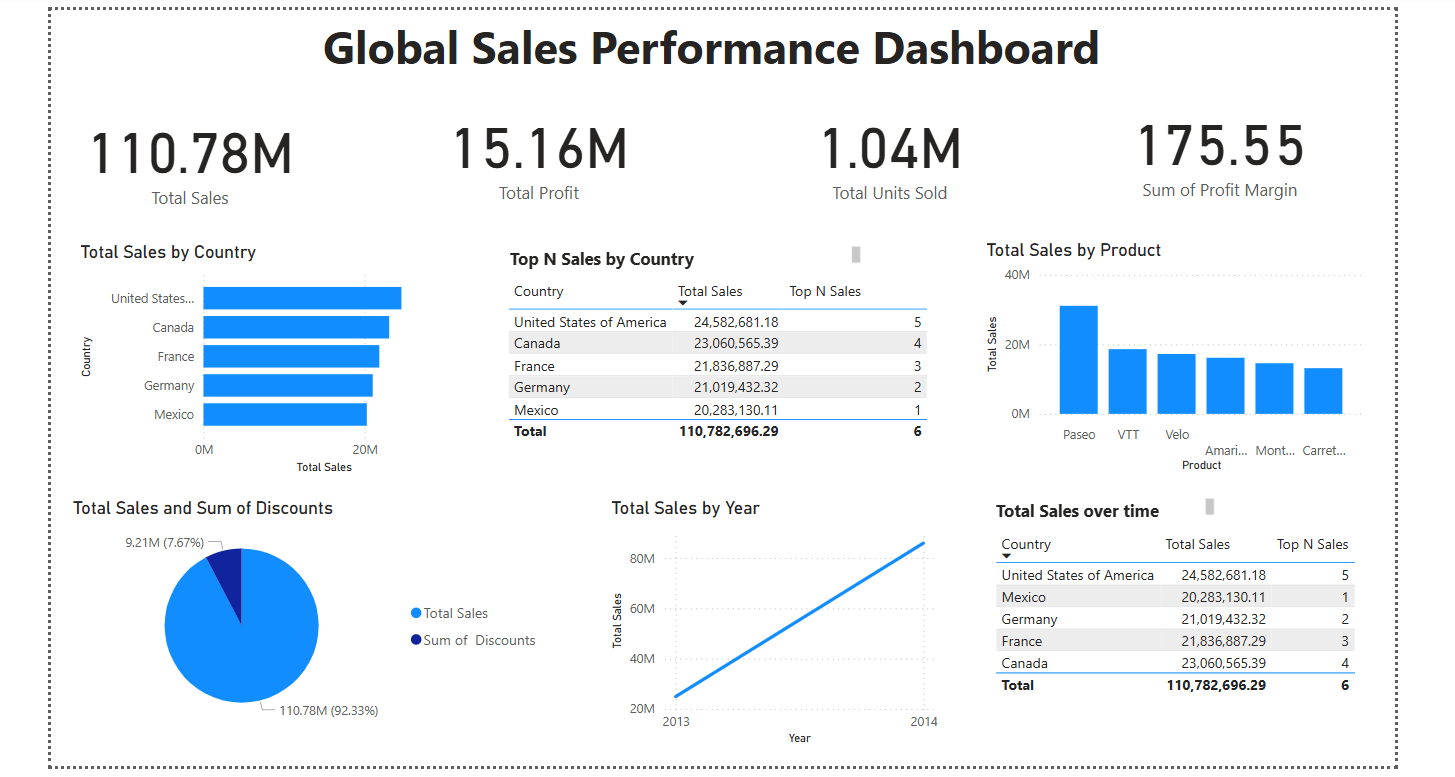

Layout of this report page (visuals, bound fields, positions):
{"tool":"powerbi","page":{"name":"Dashboard","canvas":[1280,720],"ordinal":0},"visuals":[{"type":"textbox","box":[240.8,0,775.3,69.7],"z":0},{"type":"card","fields":{"Values":["Financials.Total Sales"]},"box":[22.7,74.2,218,130.2],"z":1000},{"type":"card","fields":{"Values":["Financials.Total Profit"]},"box":[355.7,80,217.1,110],"z":2000},{"type":"card","fields":{"Values":["Financials.Total Units Sold"]},"box":[690,75.7,217.1,118.6],"z":3000},{"type":"card","fields":{"Values":["Sum(Financials.Profit Margin)"]},"box":[1004.3,70,217.1,124.3],"z":4000},{"type":"clusteredBarChart","fields":{"Y":["Financials.Total Sales"],"Category":["Financials.Country"]},"box":[22.7,220,369.1,225.5],"z":5000},{"type":"tableEx","fields":{"Values":["Financials.Country","Financials.Total Sales","Financials.Top N Sales"]},"box":[430,251.4,420,171.4],"z":6000},{"type":"clusteredColumnChart","fields":{"Category":["Financials. Product "],"Y":["Financials.Total Sales"]},"box":[885.7,218.6,368.6,225.7],"z":7000},{"type":"pieChart","fields":{"Y":["Financials.Total Sales","Sum(Financials. Discounts )"]},"box":[16,464,464,224],"z":8000},{"type":"lineChart","fields":{"Category":["Financials.Date.Variation.Date Hierarchy.Year","Financials.Date.Variation.Date Hierarchy.Quarter","Financials.Date.Variation.Date Hierarchy.Month","Financials.Date.Variation.Date Hierarchy.Day"],"Y":["Financials.Total Sales"]},"box":[528,464,320,240],"z":9000},{"type":"tableEx","fields":{"Values":["Financials.Country","Financials.Total Sales","Financials.Top N Sales"]},"box":[894.3,492.9,368.6,192.9],"z":10000},{"type":"textbox","box":[431.4,220,344.3,32.9],"z":11000},{"type":"textbox","box":[894.3,460,218.6,32.9],"z":12000}]}

Visuals, with their boxes on the page's 1280x720 design canvas (x1, y1, x2, y2). These are canvas units, not pixel positions in the 1455x777 screenshot, which may show the page scaled, cropped or inside an application window:
textbox: crop(241, 0, 1016, 70)
card - Financials.Total Sales: crop(23, 74, 241, 204)
card - Financials.Total Profit: crop(356, 80, 573, 190)
card - Financials.Total Units Sold: crop(690, 76, 907, 194)
card - Sum(Financials.Profit Margin): crop(1004, 70, 1221, 194)
clusteredBarChart - Financials.Total Sales x Financials.Country: crop(23, 220, 392, 446)
tableEx - Financials.Country x Financials.Total Sales: crop(430, 251, 850, 423)
clusteredColumnChart - Financials. Product  x Financials.Total Sales: crop(886, 219, 1254, 444)
pieChart - Financials.Total Sales x Sum(Financials. Discounts ): crop(16, 464, 480, 688)
lineChart - Financials.Date.Variation.Date Hierarchy.Year x Financials.Date.Variation.Date Hierarchy.Quarter: crop(528, 464, 848, 704)
tableEx - Financials.Country x Financials.Total Sales: crop(894, 493, 1263, 686)
textbox: crop(431, 220, 776, 253)
textbox: crop(894, 460, 1113, 493)
